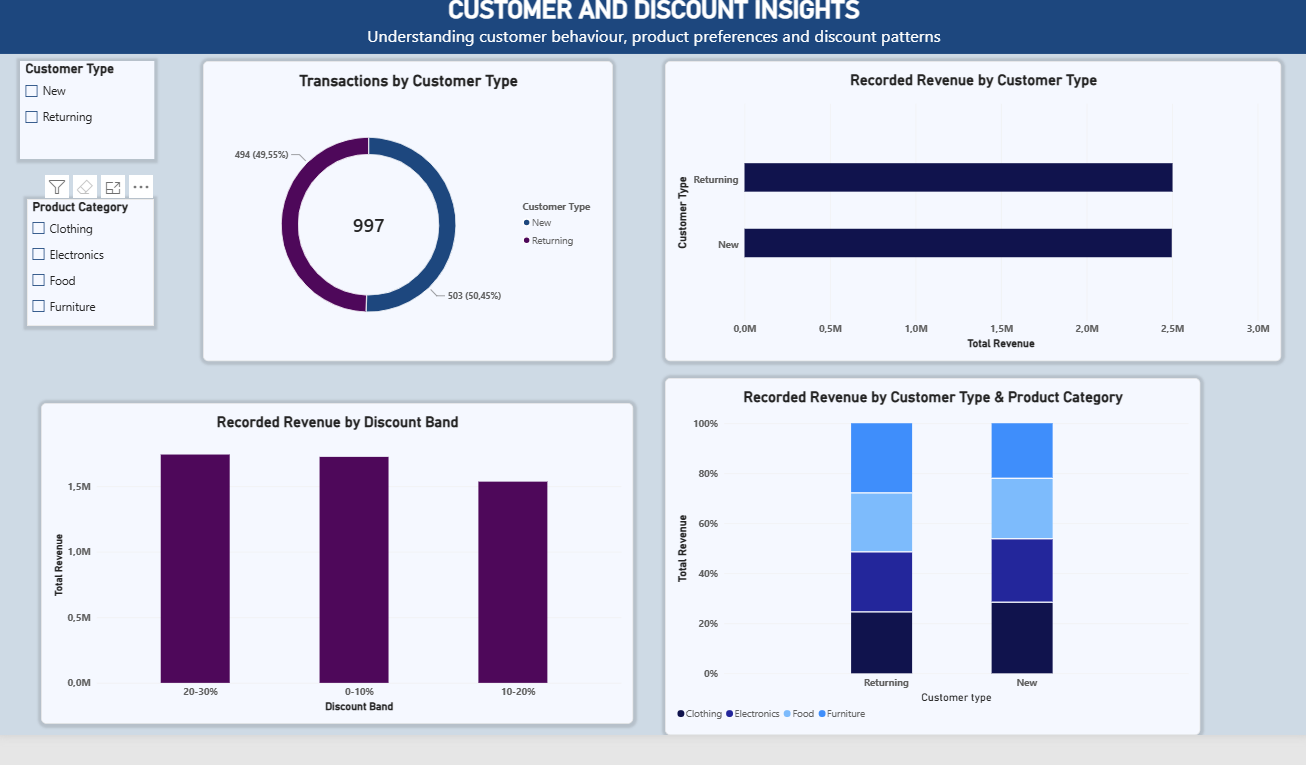

What the dashboard file says about the page in this screenshot:
{"tool":"powerbi","page":{"name":"Customer & discount insights","canvas":[1920,1080],"ordinal":2},"visuals":[{"type":"donutChart","title":"Transactions by Customer Type","fields":{"Category":["public sales_dashboard.customer_type"],"Y":["public sales_dashboard.Total Transactions"]},"box":[302,96.3,598.2,437.7],"z":0},{"type":"clusteredBarChart","title":"Recorded Revenue by Customer Type","fields":{"Category":["public sales_dashboard.customer_type"],"Y":["public sales_dashboard.Total Revenue"]},"box":[976,96.3,898.7,437.7],"z":1000},{"type":"hundredPercentStackedColumnChart","title":"Recorded Revenue by Customer Type & Product Category","fields":{"Category":["public sales_dashboard.customer_type"],"Series":["public sales_dashboard.product_category"],"Y":["public sales_dashboard.Total Revenue"]},"box":[976,558.8,780.5,520.9],"z":2000},{"type":"clusteredColumnChart","title":"Recorded Revenue by Discount Band","fields":{"Category":["public sales_dashboard.Discount Band"],"Y":["public sales_dashboard.Total Revenue"]},"box":[65.7,595.3,863.7,468.3],"z":3000},{"type":"textbox","title":"CUSTOMER AND DISCOUNT INSIGHTS","box":[0,0,1920,86.1],"z":3001},{"type":"slicer","fields":{"Values":["public sales_dashboard.customer_type"]},"box":[35,96.3,195.5,143],"z":3002},{"type":"slicer","fields":{"Values":["public sales_dashboard.product_category"]},"box":[45.2,297.6,185.3,185.3],"z":3003}]}

Visuals, with their boxes on the page's 1920x1080 design canvas (x1, y1, x2, y2). These are canvas units, not pixel positions in the 1306x765 screenshot, which may show the page scaled, cropped or inside an application window:
"Transactions by Customer Type" donutChart: 302 96 900 534
"Recorded Revenue by Customer Type" clusteredBarChart: 976 96 1875 534
"Recorded Revenue by Customer Type & Product Category" hundredPercentStackedColumnChart: 976 559 1756 1080
"Recorded Revenue by Discount Band" clusteredColumnChart: 66 595 929 1064
"CUSTOMER AND DISCOUNT INSIGHTS" textbox: 0 0 1920 86
slicer - public sales_dashboard.customer_type: 35 96 230 239
slicer - public sales_dashboard.product_category: 45 298 230 483
